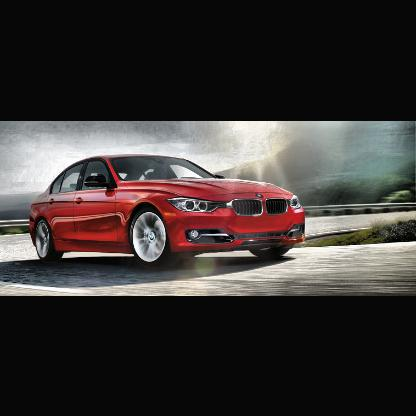BMW 3 Series Sedan 2012: (29, 155, 307, 269)
